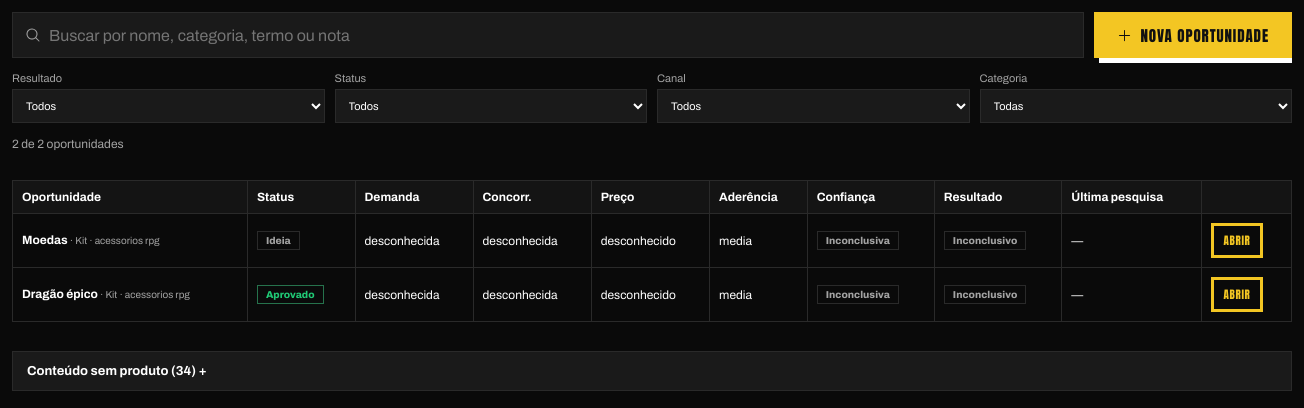
Test: RadarManager › filtra por status
The width and height of the screenshot is (1304, 408).
Expected: the text "Moedas" is shown, [22,233,68,247]
Step 1. Select "Aprovado" in the dropdown labelled "Status" → (491, 106), box [334,89,647,123]
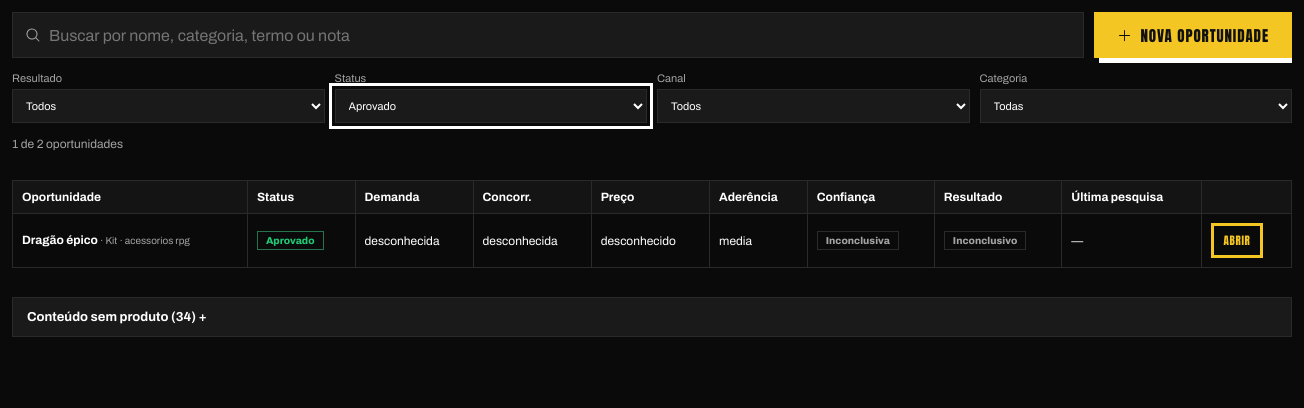
Expected: the text "Dragão épico" is shown, [22,233,98,247]
Now the text "1 de 2 oportunidades" is shown, box [12,137,123,151]
Now the text "Moedas" is gone
